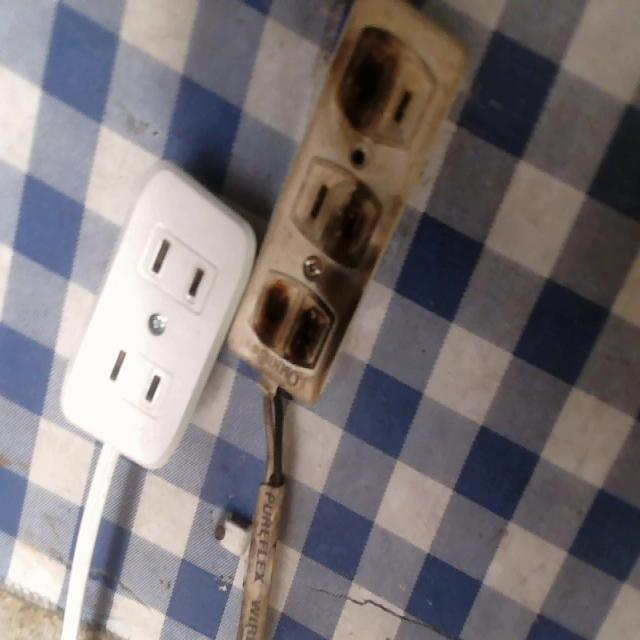-: (257, 266, 337, 374), (337, 24, 396, 144), (335, 181, 385, 268)
